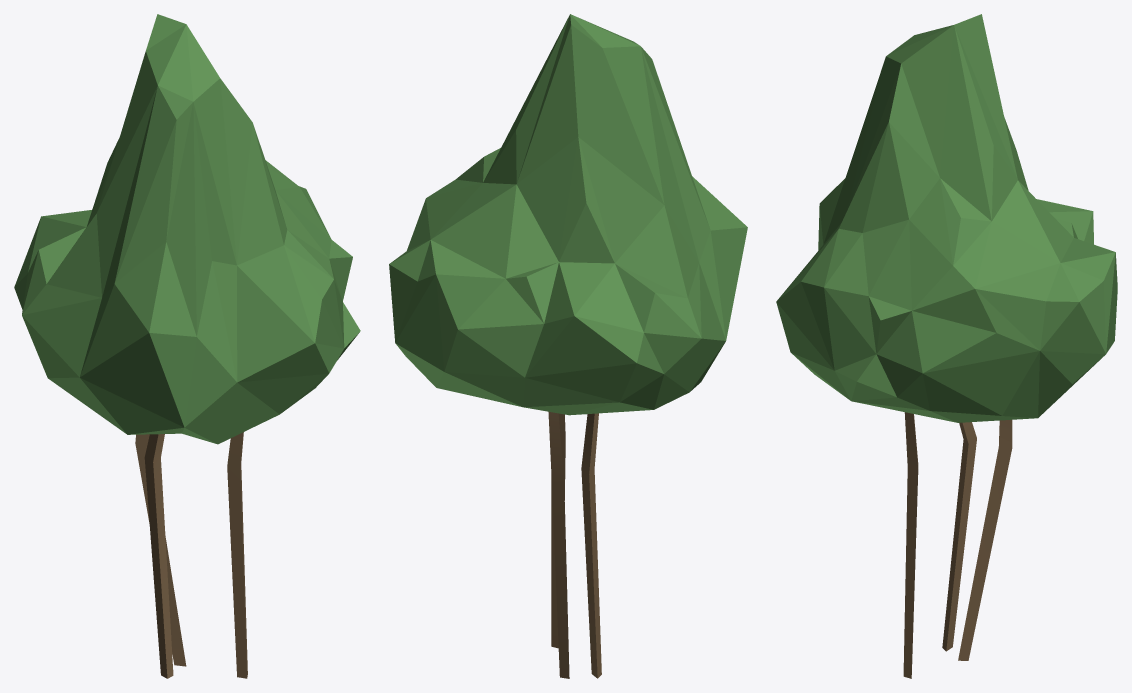
File: SM_Env_Bush_02.fbx
The picture shows the model from 3 angles, left to right: view 1: azimuth 30°, elevation 25°; view 2: azimuth 150°, elevation 25°; view 3: azimuth 270°, elevation 25°; orthographic projection. The views are drawn at different scales.
Parts seen in each view (by area): view 1: SM_Env_Bush_02; view 2: SM_Env_Bush_02; view 3: SM_Env_Bush_02.
Boxes of the visible parts, x1,y1,x2,y2 form: SM_Env_Bush_02: [14, 14, 360, 678]; SM_Env_Bush_02: [389, 14, 747, 678]; SM_Env_Bush_02: [776, 14, 1117, 678].
Size of the model in its own units: 0.00715 by 0.0153 by 0.00742.
Materials: 1 (1 with a texture image).
